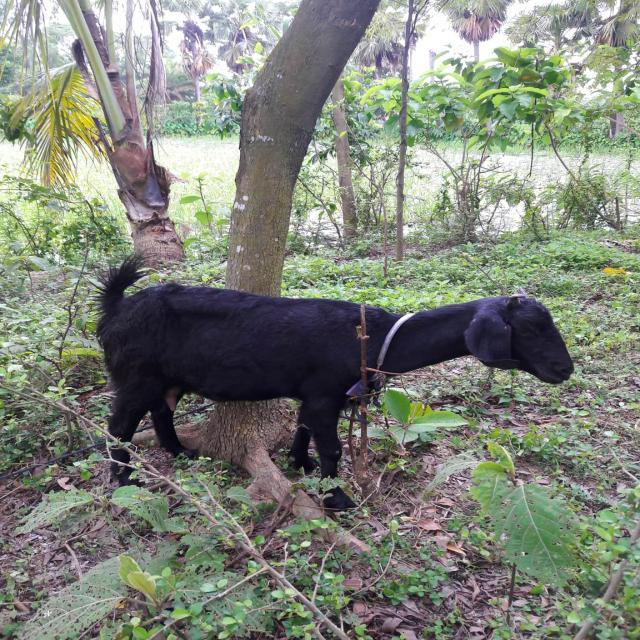Goat: (89, 251, 575, 516)
